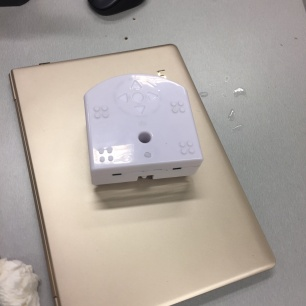thymio: (69, 72, 207, 198)
